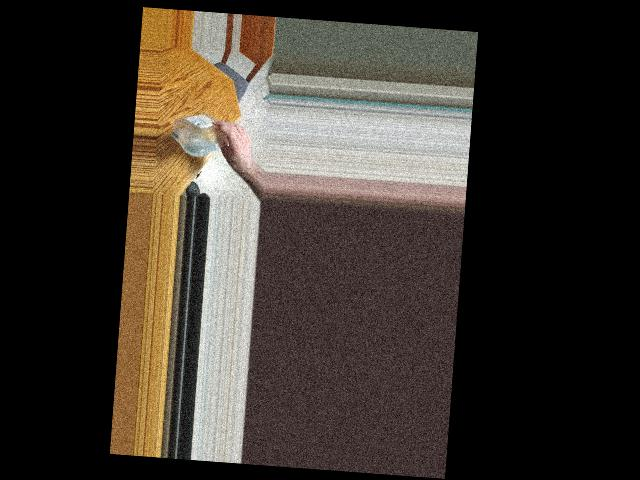cheese: (173, 113, 239, 154)
